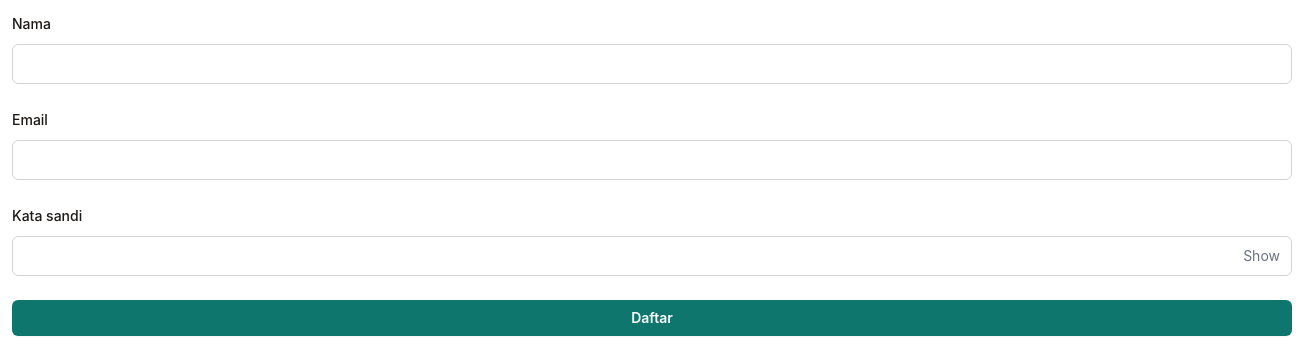
RegisterForm (pasca-register) › setelah daftar sukses → layar cek email tampil + tombol kirim ulang dalam cooldown
Type "Anas" into the field labelled "Nama" at point(652, 64), box [12, 44, 1292, 84]
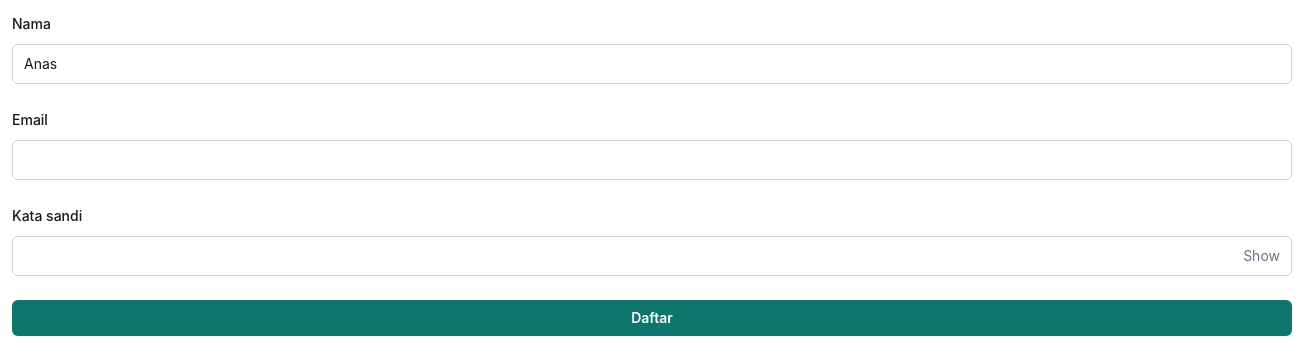
Type "a@mail.com" into the field labelled "Email" at point(652, 160), box [12, 140, 1292, 180]
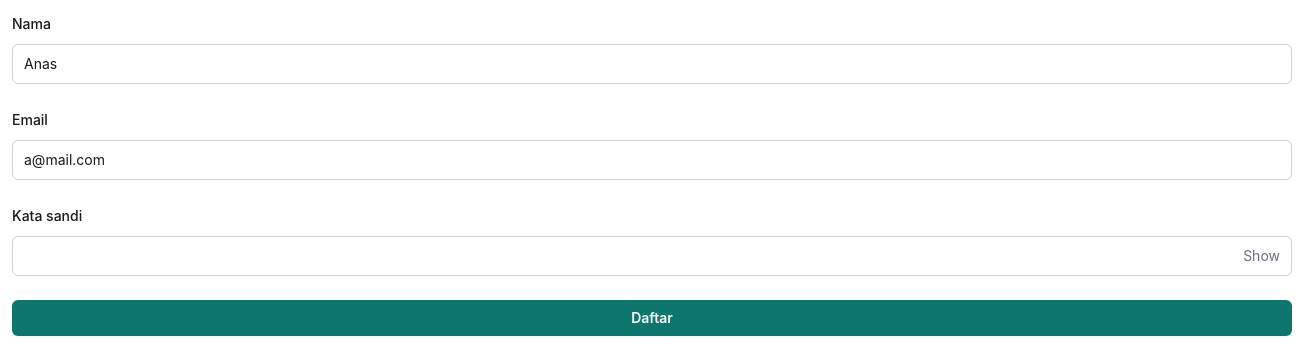
Type "password123" into the password field labelled "Kata sandi" at point(652, 256), box [12, 236, 1292, 276]
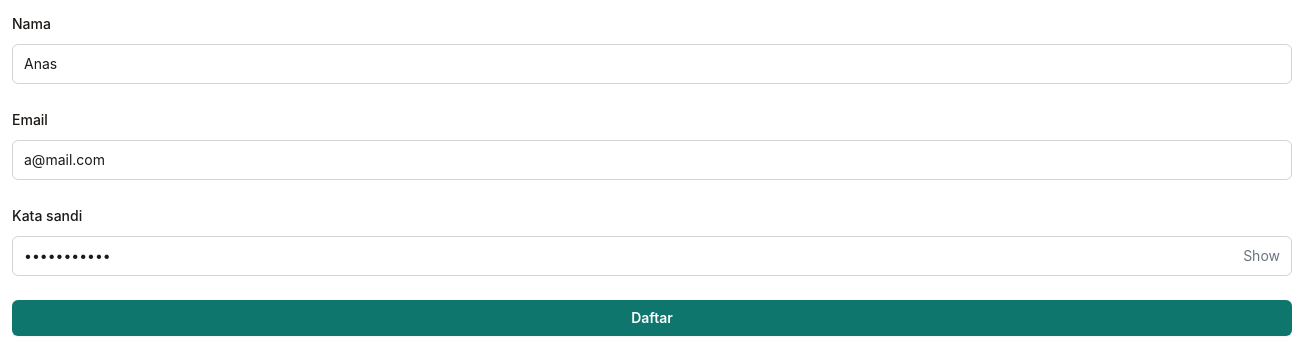
Click the button "Daftar" at point(652, 318), box [12, 300, 1292, 336]
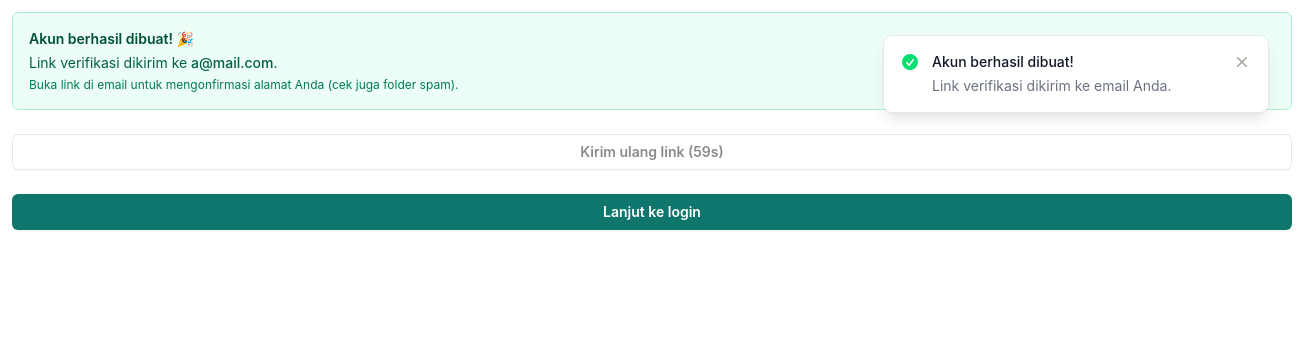
Check: the text "Akun berhasil dibuat! 🎉" is shown, box [29, 30, 194, 47]
Check: the text "a@mail.com" is shown, box [191, 54, 274, 71]
Check: the button "Lanjut ke login" is shown, box [12, 194, 1292, 230]
